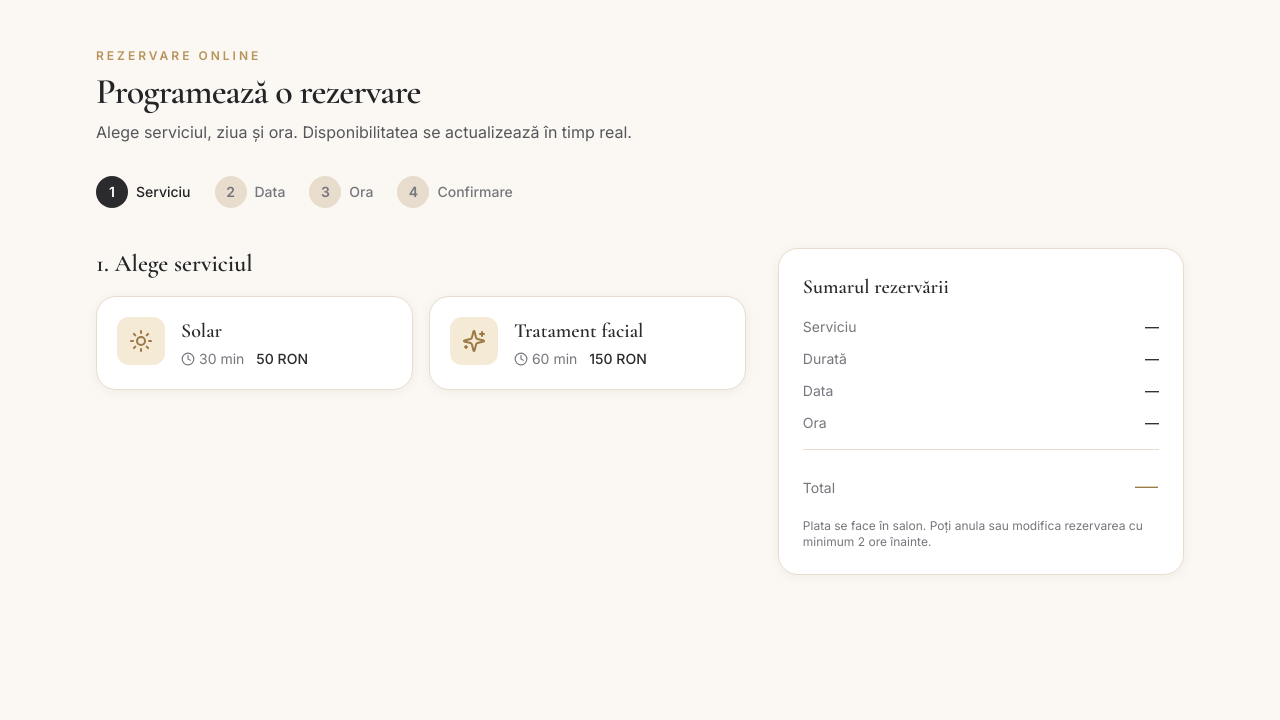
Test: Booking flow › when the slot was taken meanwhile it explains why and returns to the time step
What coordinates should you click on to do the following:
click the button "Tratament facial 60 min 150 RON"
I would click on:
 (587, 343)
Its box is [429,296,746,390].
(page scrolled)
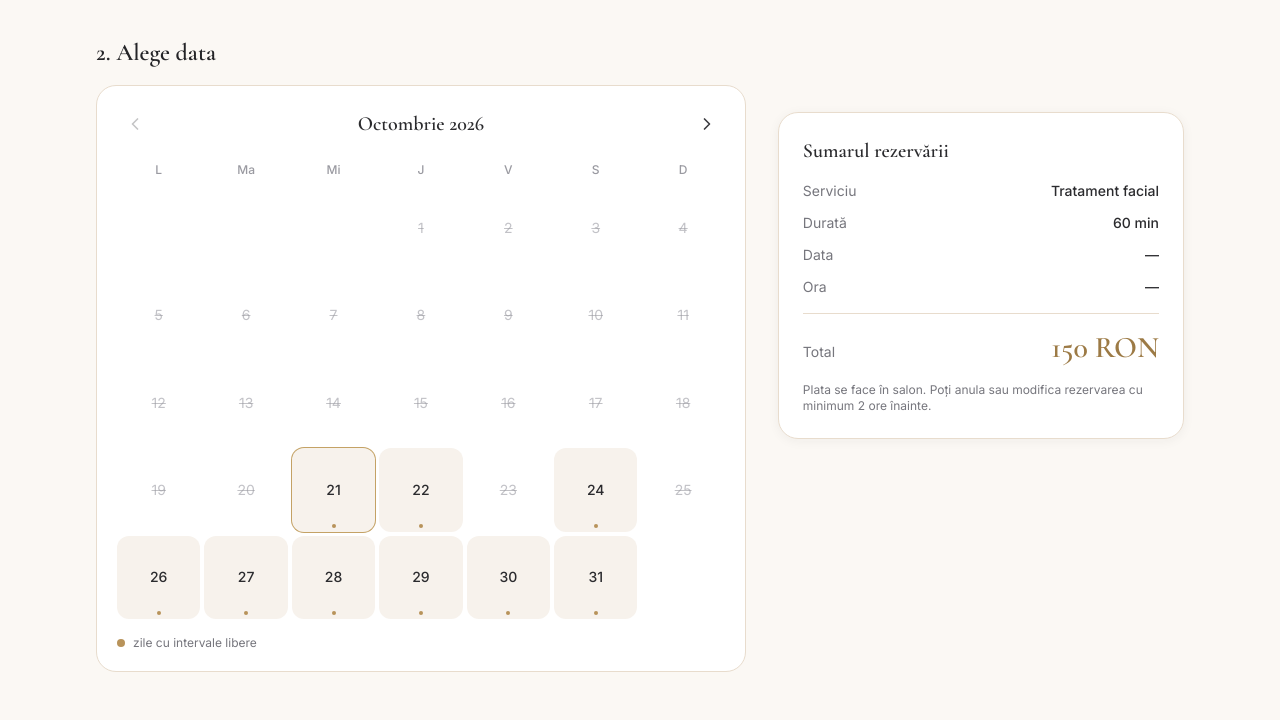
Expected: the button named "duminică, 25 octombrie 2026" is disabled, [641,448,725,532]
Expected: the button named "vineri, 23 octombrie 2026" is disabled, [467,448,550,532]
Expected: the button named "marți, 20 octombrie 2026" is disabled, [204,448,288,532]
What coordinates should you click on to do the following:
click the button named "joi, 22 octombrie 2026"
I would click on:
 (421, 490)
Its box is [379,448,463,532].
(page scrolled)
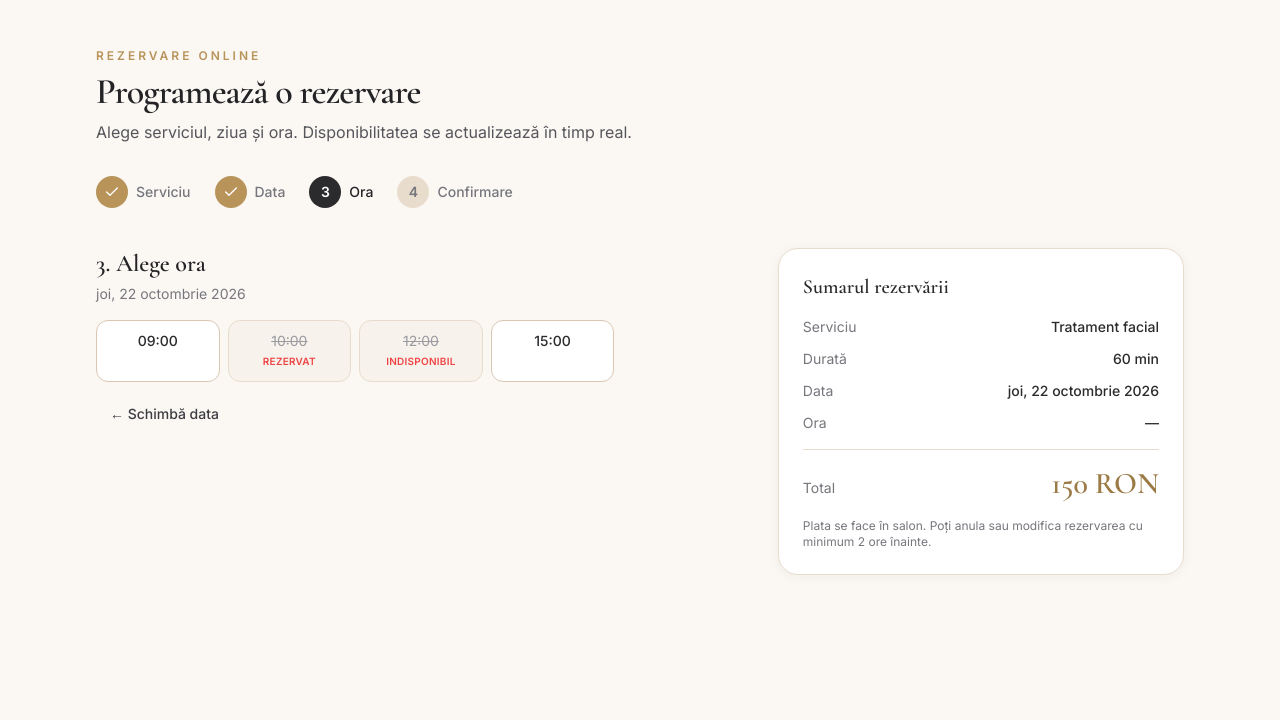
What coordinates should you click on to do the following:
click the button "15:00"
I would click on:
 (552, 351)
Its box is [491,320,614,382].
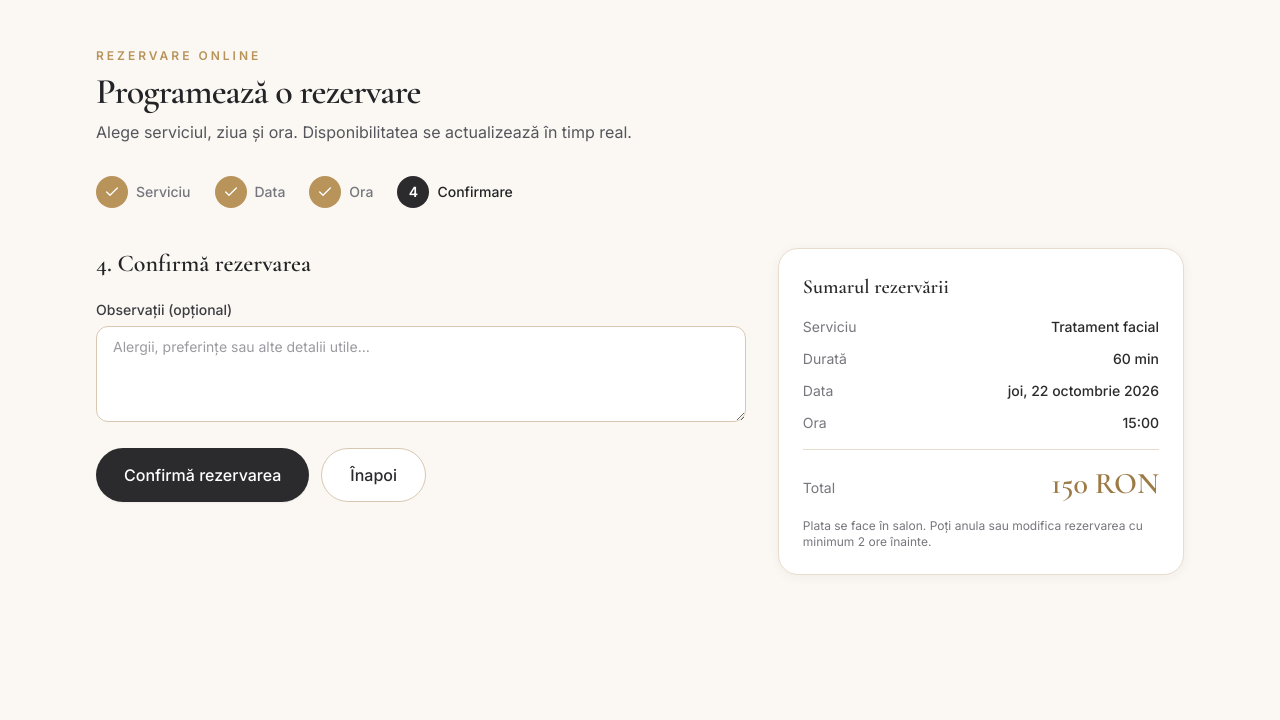
What coordinates should you click on to do the following:
click the button "Confirmă rezervarea"
I would click on:
 (203, 475)
Its box is [96,448,309,502].
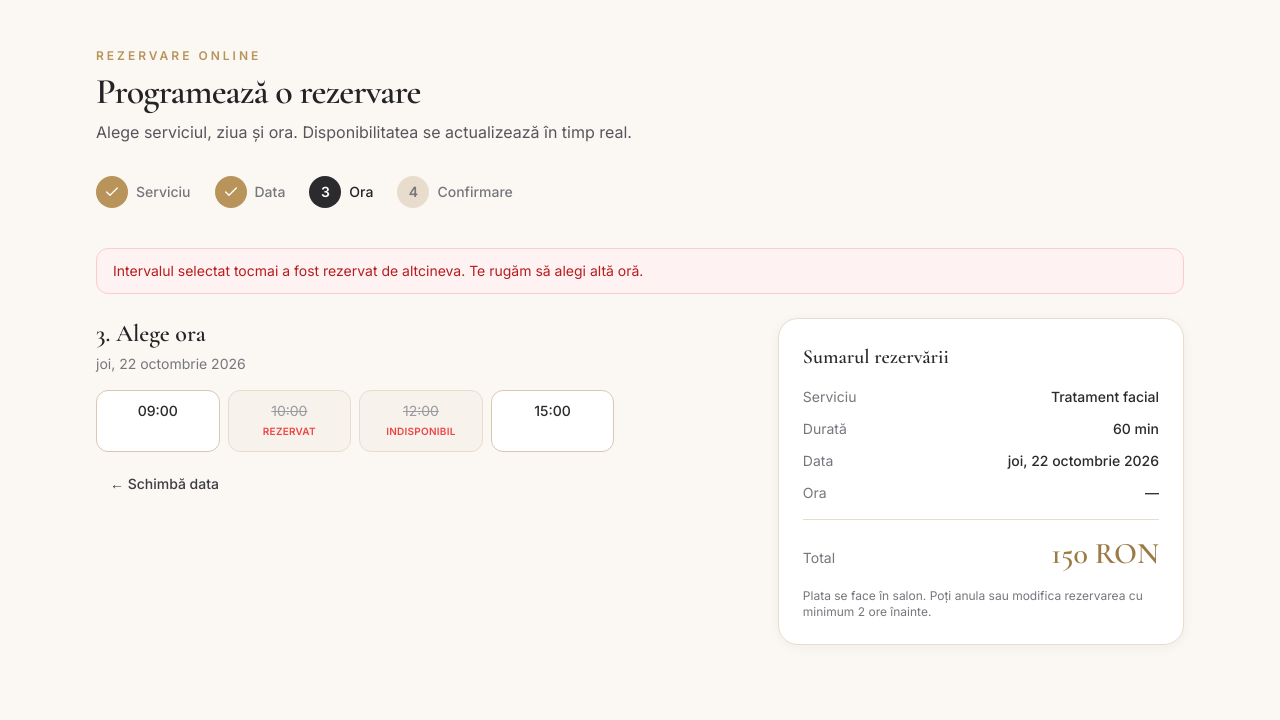
Expected: the message shows "tocmai a fost rezervat", [113,262,643,279]
Expected: the heading "3. Alege ora" is shown, [96,319,206,348]
Expected: the heading "4. Confirmă rezervarea" is gone
